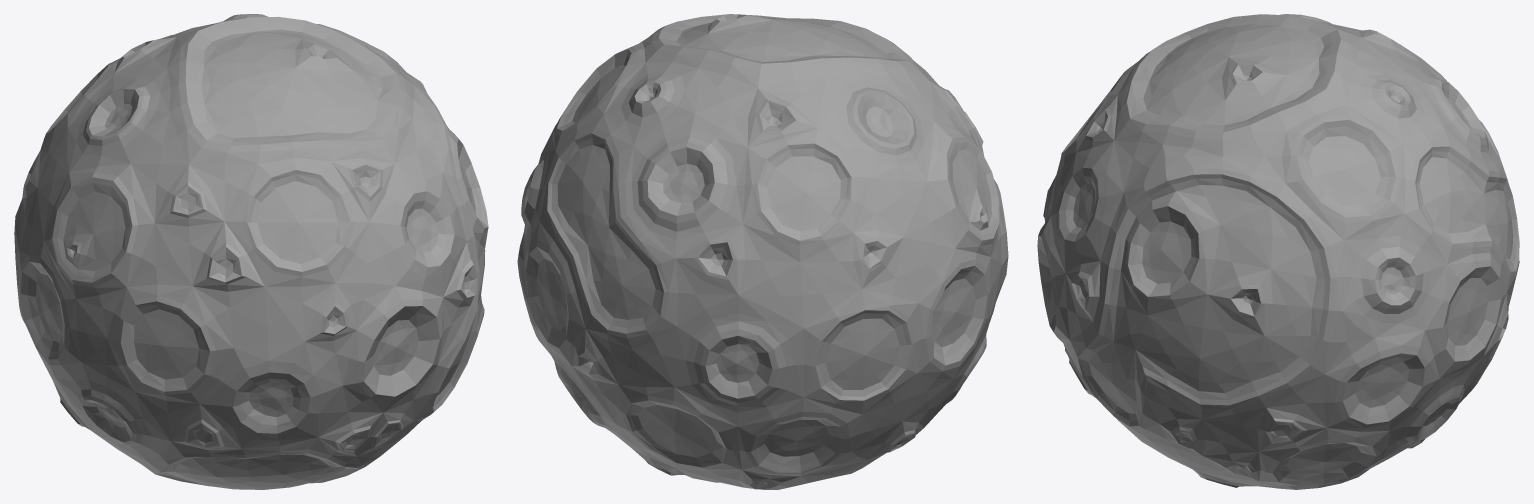
The model's file is moon.gltf.
The picture shows the model from 3 angles, left to right: view 1: azimuth 30°, elevation 25°; view 2: azimuth 150°, elevation 25°; view 3: azimuth 270°, elevation 25°; orthographic projection.
Parts seen in each view (by area): view 1: node-0; view 2: node-0; view 3: node-0.
Boxes of the visible parts, x1=… form: node-0: x1=14, y1=14, x2=488, y2=489; node-0: x1=517, y1=14, x2=1008, y2=489; node-0: x1=1037, y1=14, x2=1519, y2=489.
Bounding box in the file's own units: 74.23 × 73.97 × 75.95.
1 material, 1 textured.
